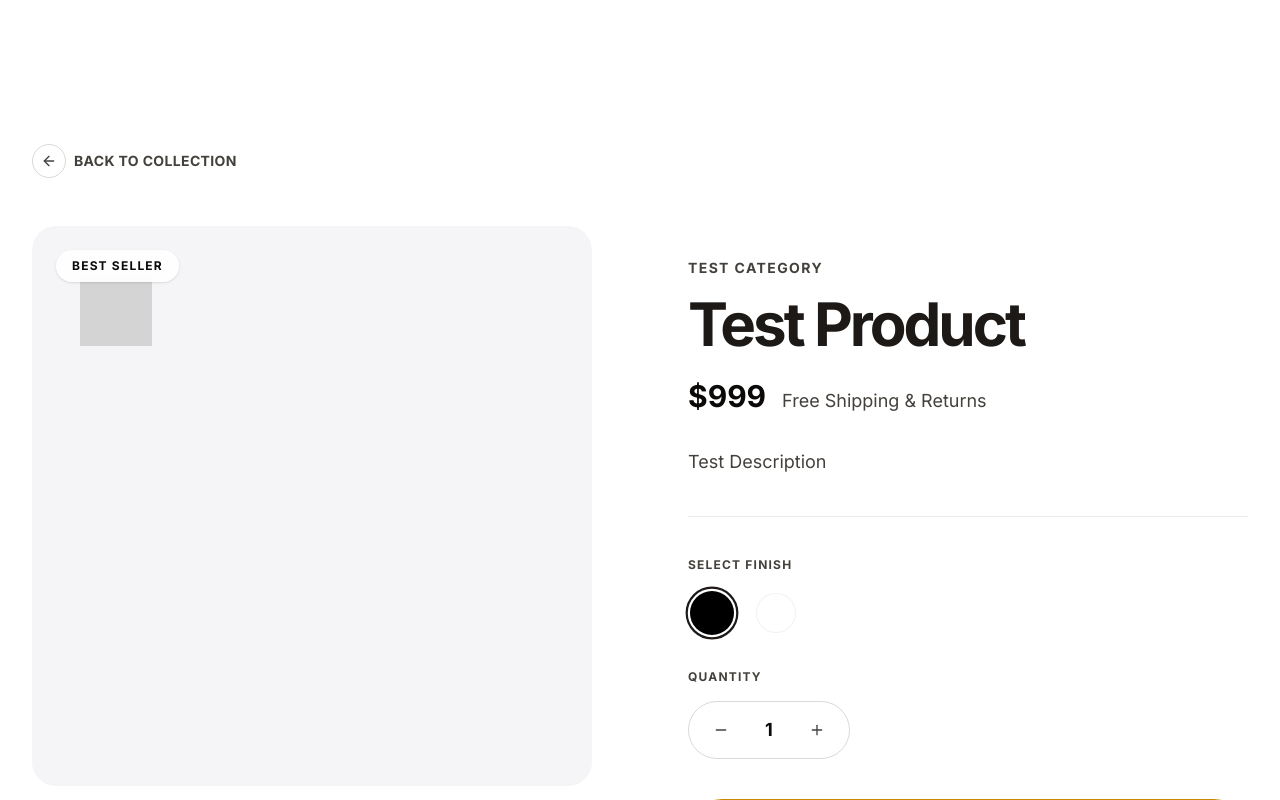
Test case: ProductDetailClient › updates quantity
This screenshot has width=1280, height=800.
Click the 5th button. click: {"x": 817, "y": 730}
box: [801, 714, 833, 746]
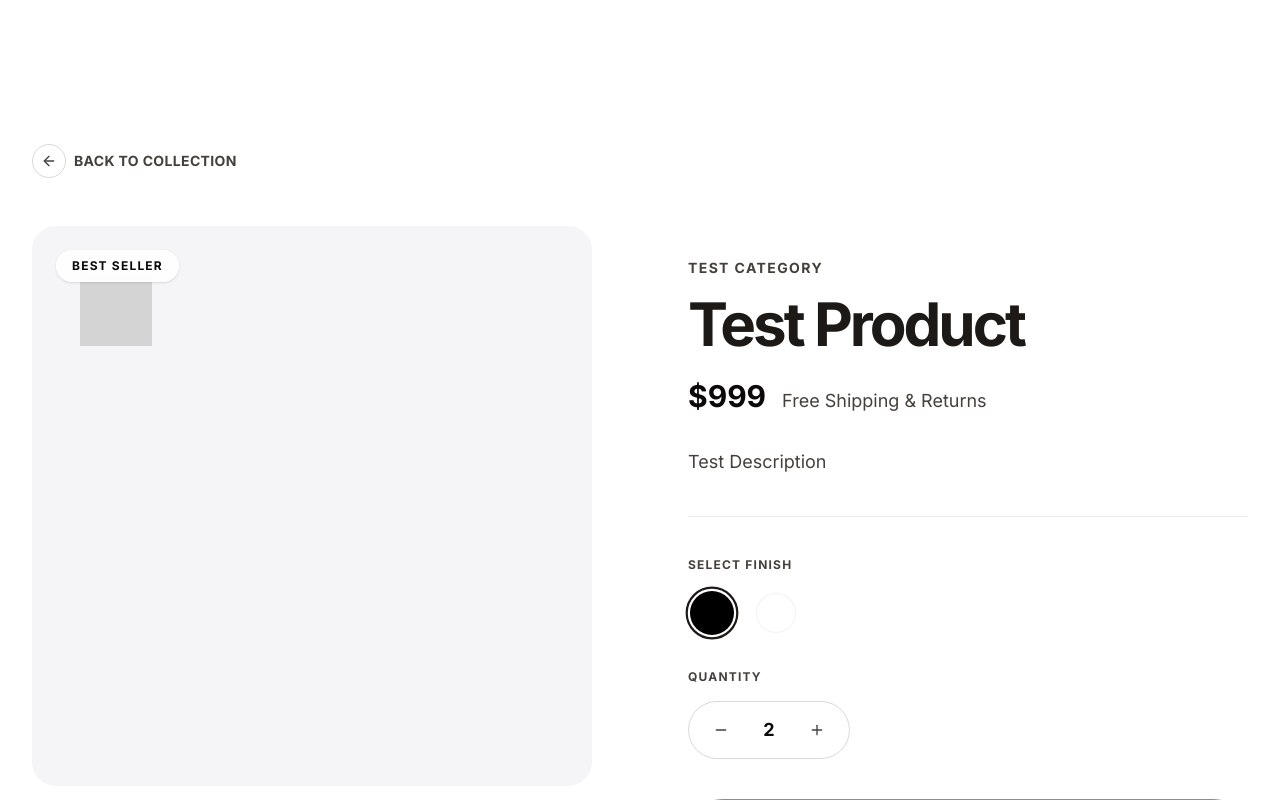
Now the text "2" is shown, box [763, 719, 775, 740]
